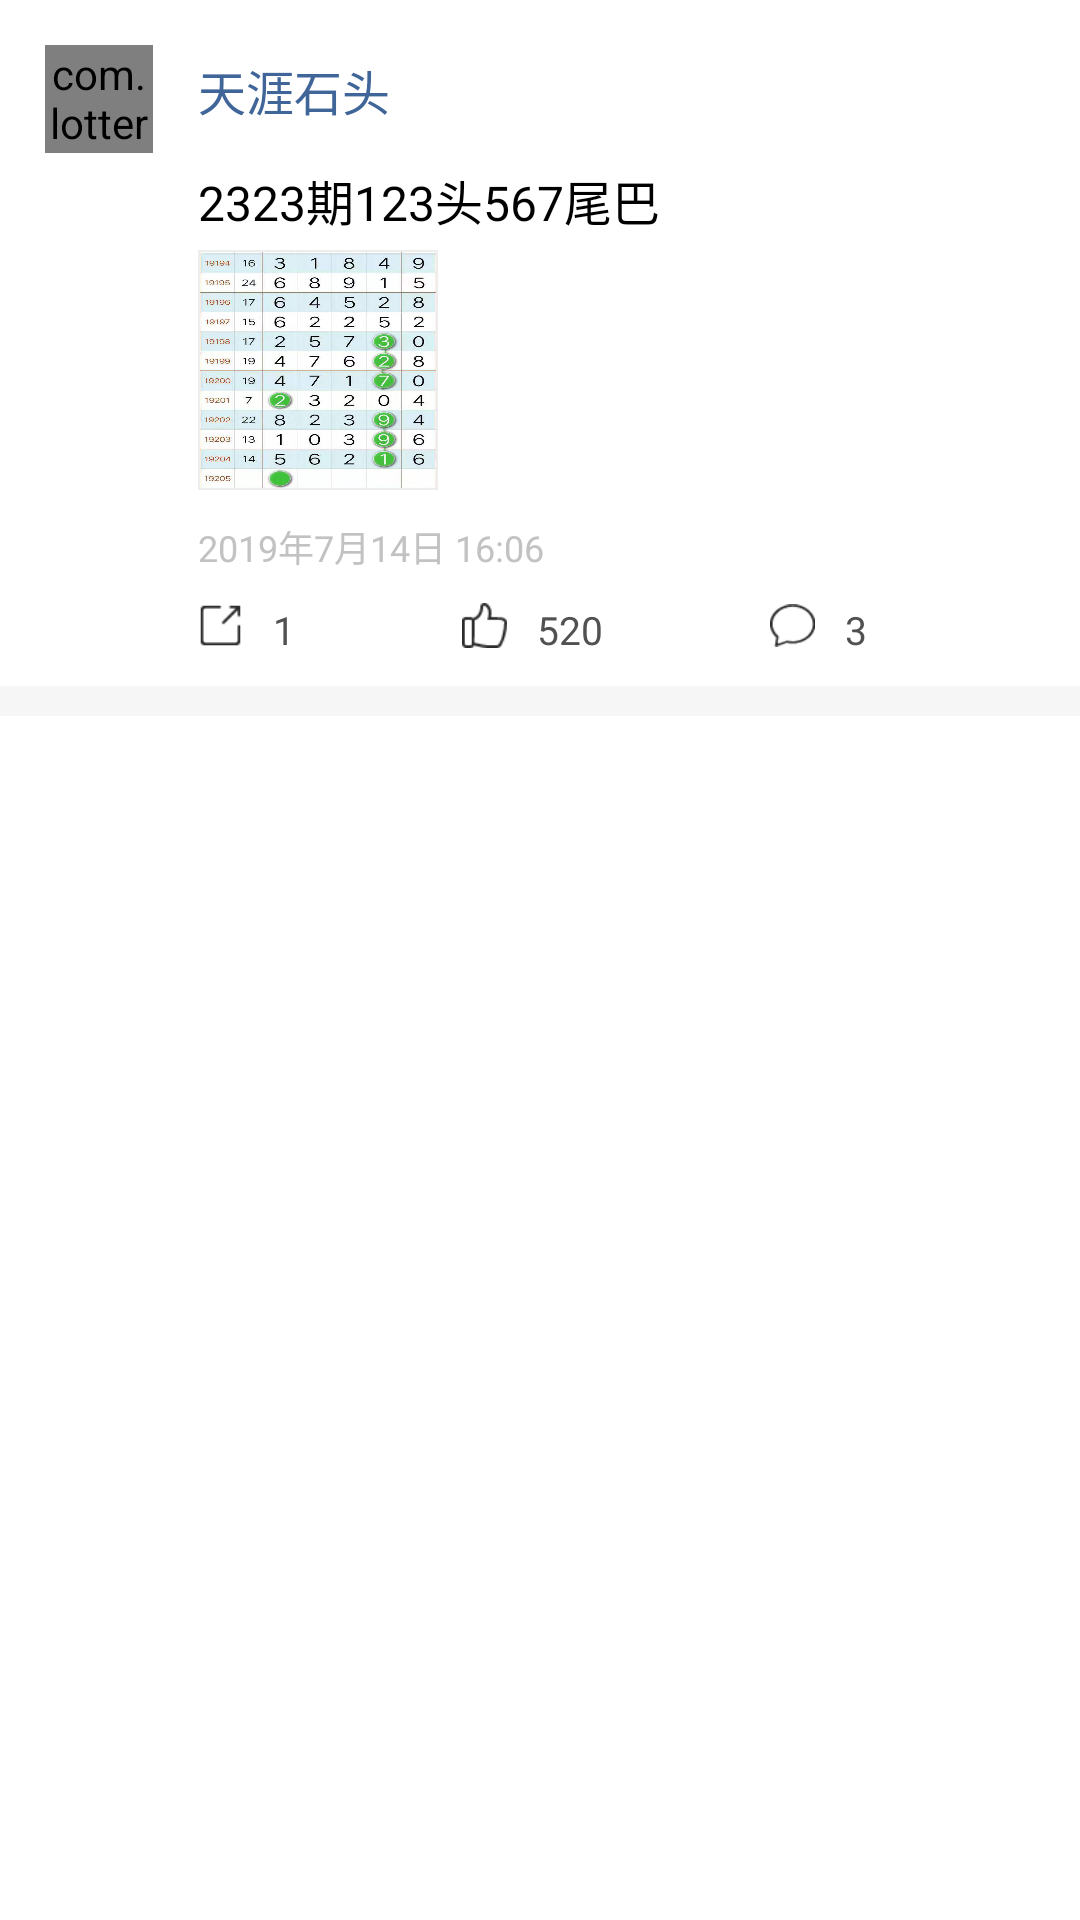

Screen size 1080x1920. Icon name, then its box in pixels as {"x1": x1, "y1": y1, "x2": x2, "y2": y2}:
follow up: {"x1": 770, "y1": 604, "x2": 815, "y2": 647}
good: {"x1": 462, "y1": 603, "x2": 507, "y2": 648}
share: {"x1": 200, "y1": 605, "x2": 241, "y2": 646}
